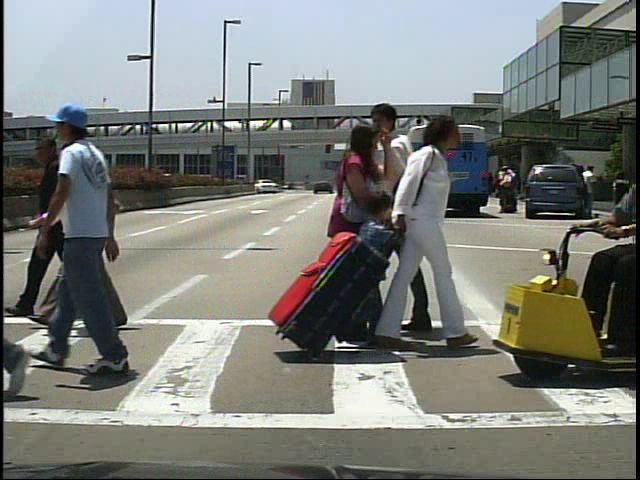person: (47, 105, 155, 388), (364, 115, 471, 366), (356, 100, 457, 350), (327, 122, 395, 356), (51, 136, 116, 330), (21, 130, 81, 323), (347, 182, 393, 318), (582, 164, 602, 218), (498, 166, 516, 219), (501, 165, 520, 214)
